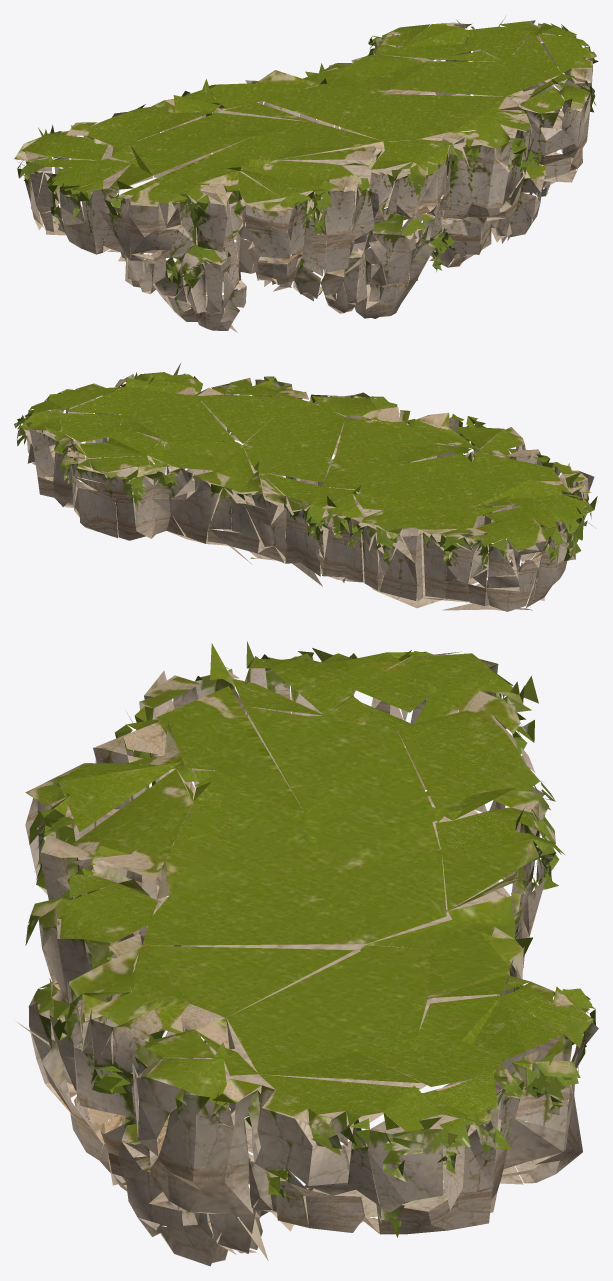
Rendered from cliff.glb.
The picture shows the model from 3 angles, top to bottom: view 1: azimuth 30°, elevation 25°; view 2: azimuth 150°, elevation 25°; view 3: azimuth 270°, elevation 25°; orthographic projection. The views are drawn at different scales.
Parts seen in each view (by area): view 1: Mesh_0; view 2: Mesh_0; view 3: Mesh_0.
Boxes of the visible parts, x1,y1,x2,y2 form: Mesh_0: (14, 17, 598, 332); Mesh_0: (14, 363, 597, 611); Mesh_0: (17, 641, 598, 1266).
Size of the model in its own units: 1.9 by 0.5826 by 0.9572.
1 material, 1 textured.
